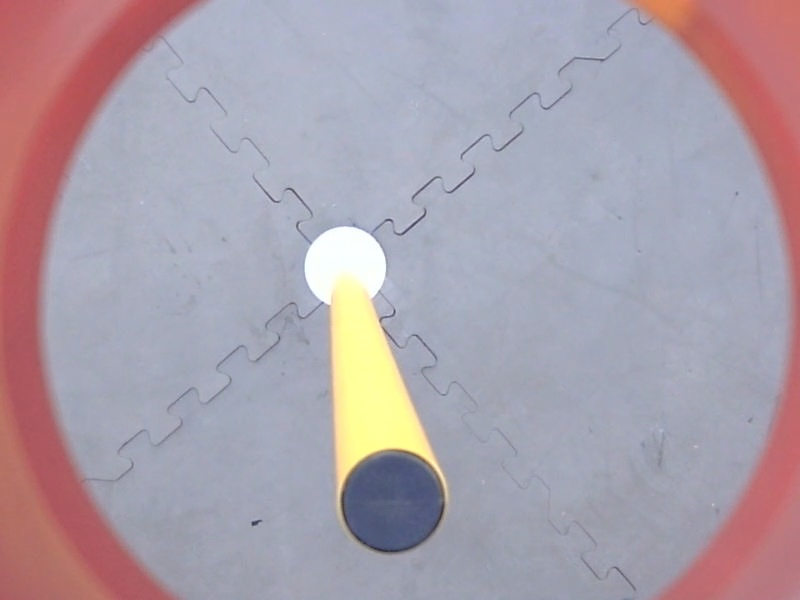tip: (331, 441, 455, 567)
